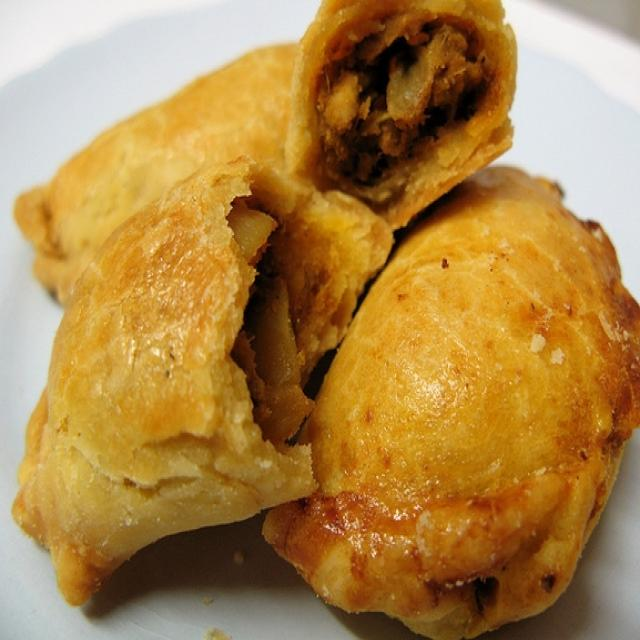炸货点心: (41, 27, 628, 634)
